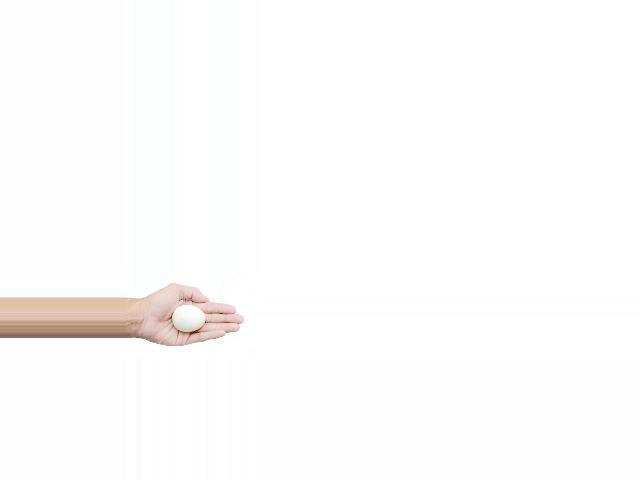egg: (172, 305, 206, 331)
